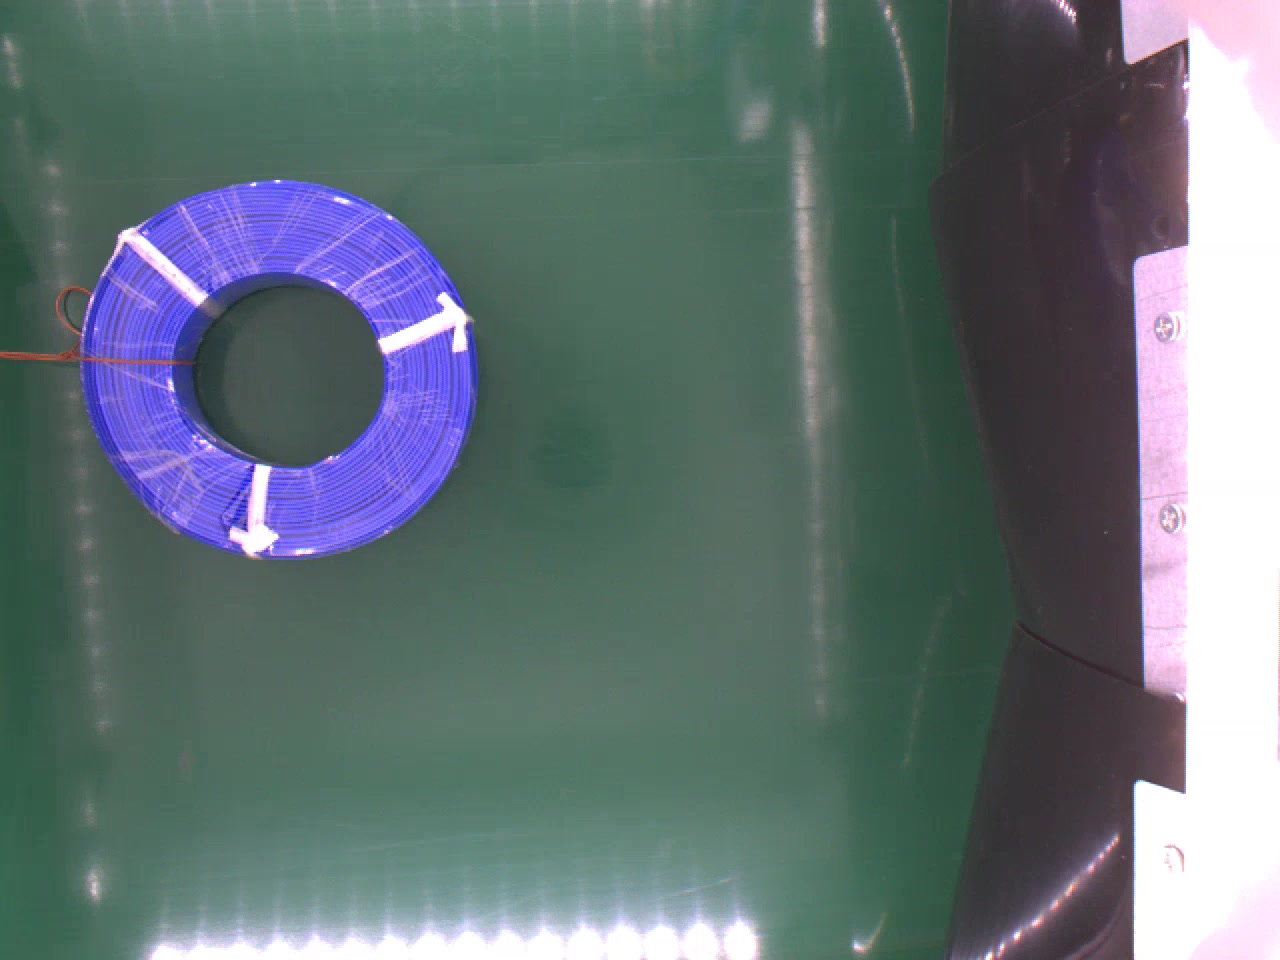blue: (85, 178, 478, 551)
